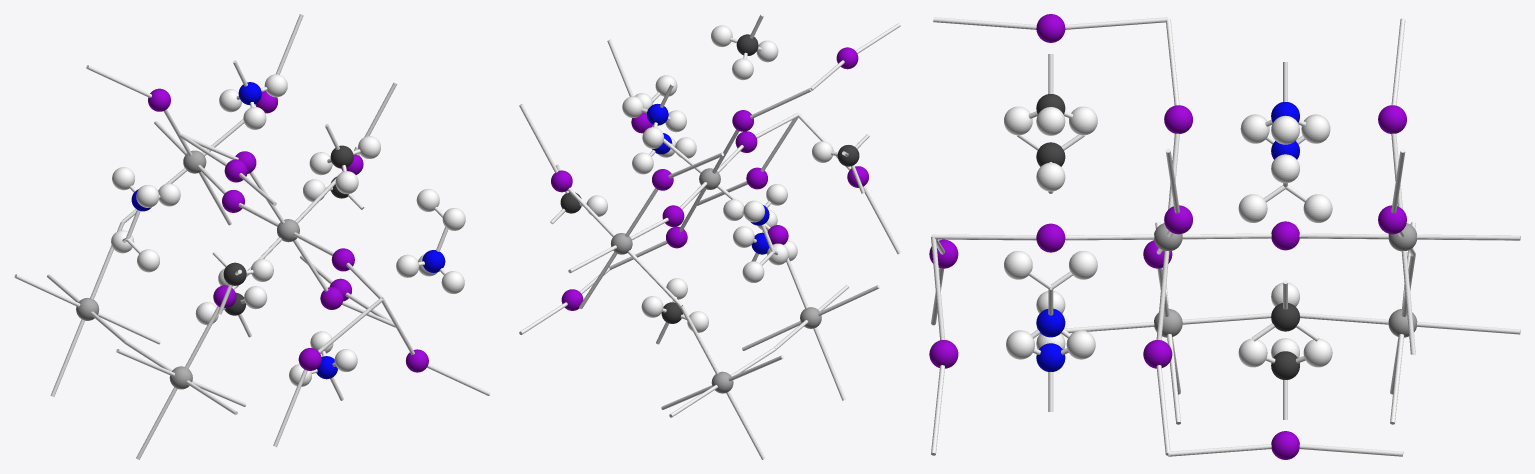
Rendered from structure_mpstyle.glb.
3 renders of one model, left to right at view 1: azimuth 30°, elevation 25°; view 2: azimuth 150°, elevation 25°; view 3: azimuth 270°, elevation 25°, orthographic. The views are drawn at different scales.
Visible parts, largest first — view 1: world; view 2: world; view 3: world.
Boxes of the visible parts, <box> form: world: <box>14,14,490,459</box>; world: <box>519,14,900,459</box>; world: <box>929,14,1520,459</box>.
Bounding box in the file's own units: 11.71 × 12.94 × 16.32.
